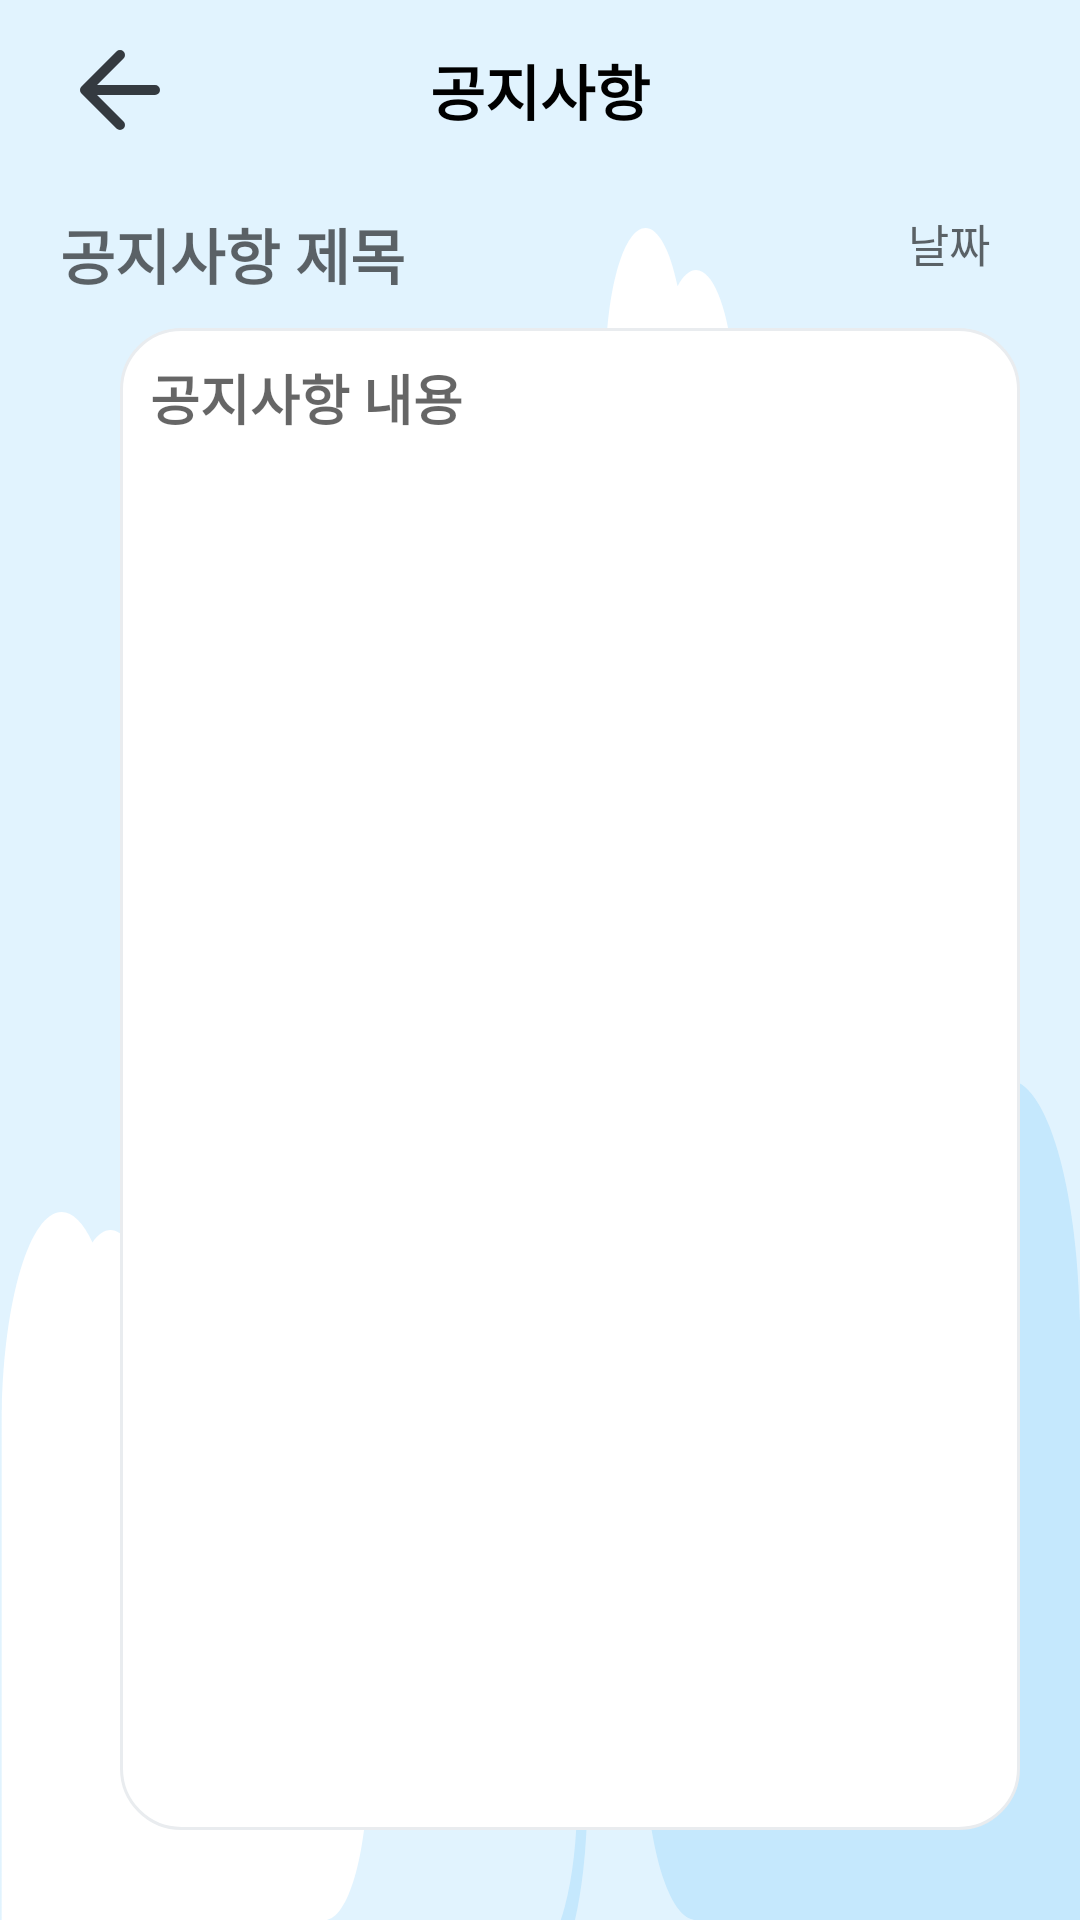

Named icons in this screenshot (1080x1920) and their centers, (x,y):
left: (120,90)
